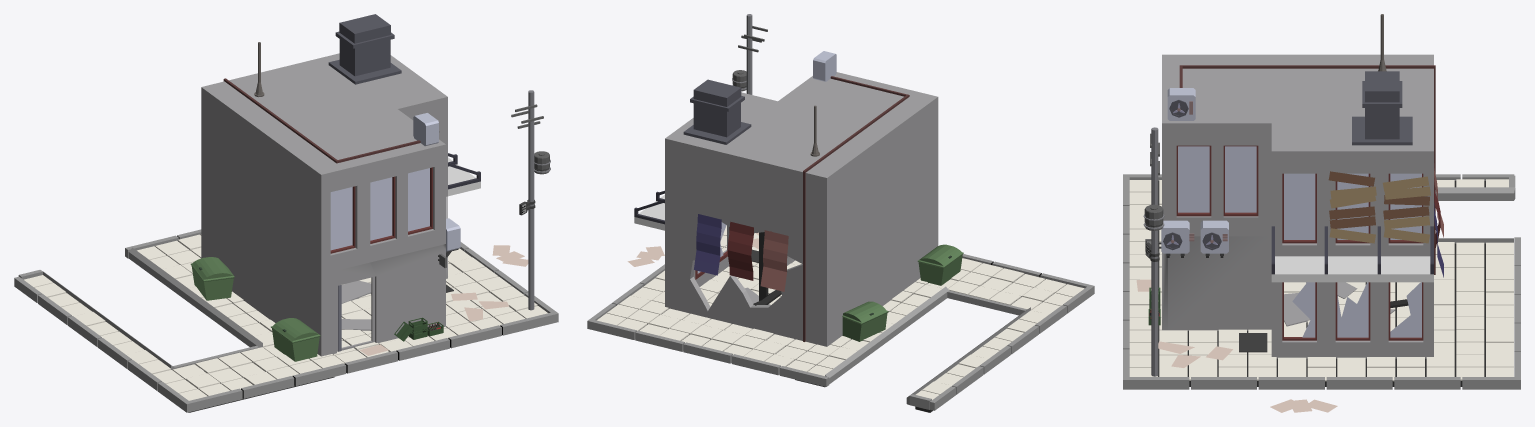
File: Shop_Building 1.fbx
The picture shows the model from 3 angles, left to right: view 1: azimuth 30°, elevation 25°; view 2: azimuth 150°, elevation 25°; view 3: azimuth 270°, elevation 25°; orthographic projection. The views are drawn at different scales.
Parts seen in each view (by area): view 1: Building_Shop, Roof_1, Roof_2; view 2: Building_Shop, Roof_2, Roof_1, Carpets; view 3: Building_Shop, Roof_2, Roof_1, Windows, Carpets.
Part boxes in pixels (bbox=[...]): Building_Shop: bbox=[14, 90, 558, 412]; Roof_1: bbox=[273, 109, 445, 274]; Roof_2: bbox=[201, 14, 480, 238]; Building_Shop: bbox=[587, 14, 1094, 412]; Roof_2: bbox=[634, 79, 893, 270]; Roof_1: bbox=[778, 51, 938, 221]; Carpets: bbox=[694, 214, 788, 291]; Building_Shop: bbox=[1123, 127, 1520, 412]; Roof_2: bbox=[1271, 14, 1435, 282]; Roof_1: bbox=[1162, 54, 1271, 236]; Windows: bbox=[1292, 282, 1421, 337]; Carpets: bbox=[1434, 163, 1443, 277].
Bounding box in the file's own units: 38.36 × 21.89 × 28.15.
